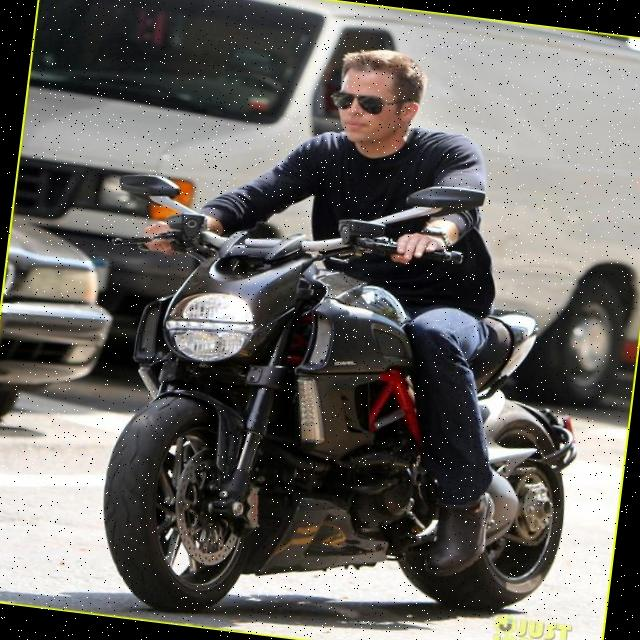No helmet: (326, 40, 428, 154)
